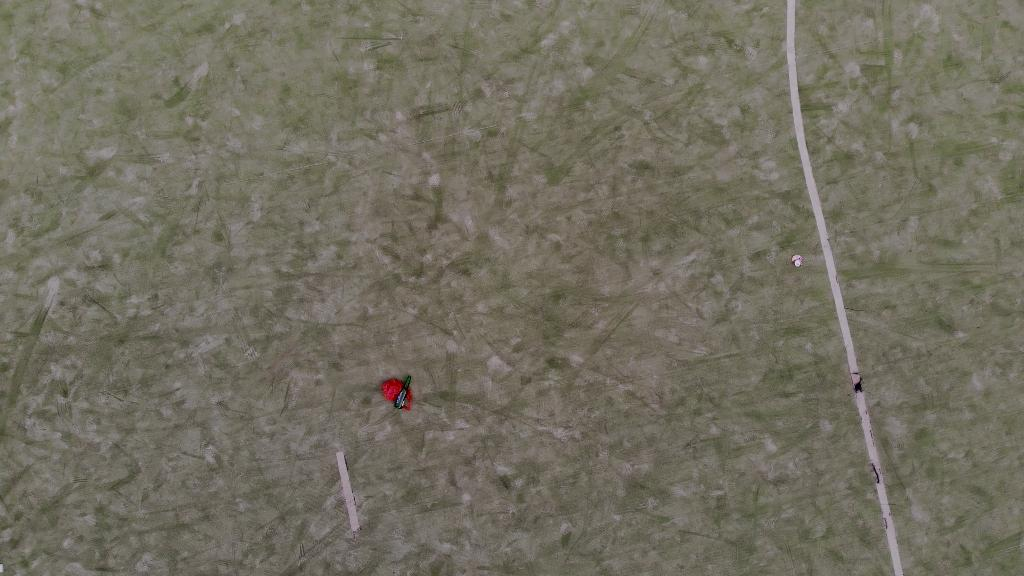garbage: (383, 375, 413, 412)
